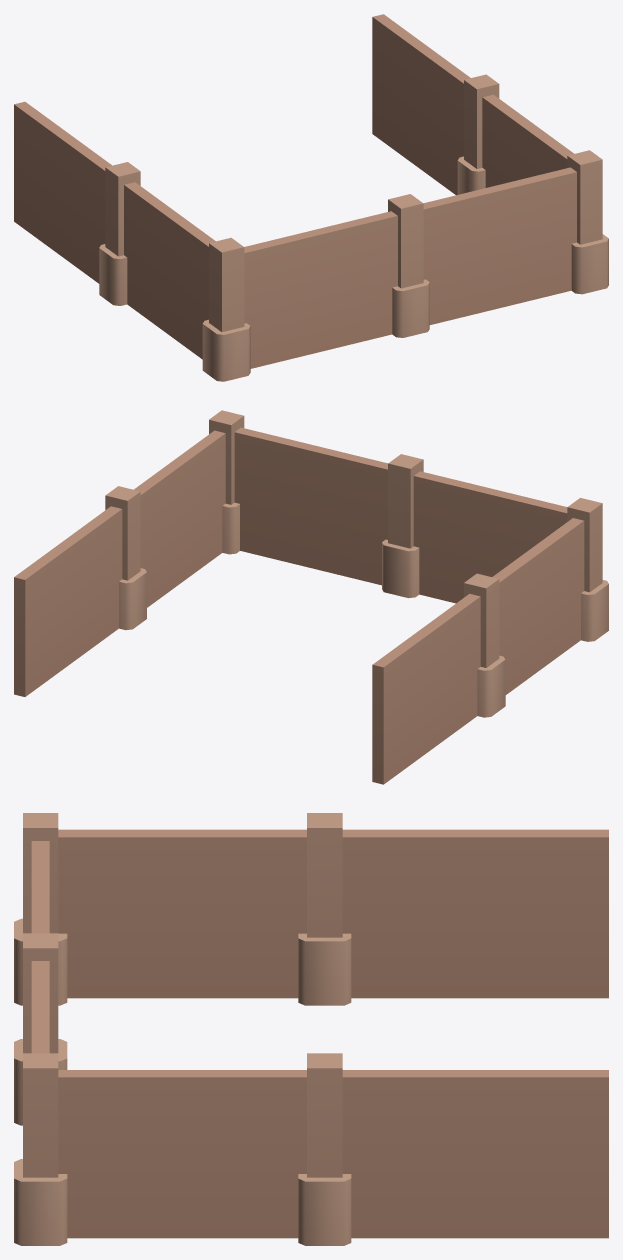
File: fence-2x2.glb
3 renders of one model, top to bottom at view 1: azimuth 30°, elevation 25°; view 2: azimuth 150°, elevation 25°; view 3: azimuth 270°, elevation 25°, orthographic. The views are drawn at different scales.
Parts seen in each view (by area): view 1: fence-2x2; view 2: fence-2x2; view 3: fence-2x2.
Part boxes in pixels (x1,y1,x2,y2): fence-2x2: [14, 14, 608, 381]; fence-2x2: [14, 410, 608, 784]; fence-2x2: [14, 813, 608, 1245].
Bounding box in the file's own units: 0.875 × 0.27 × 0.8375.
